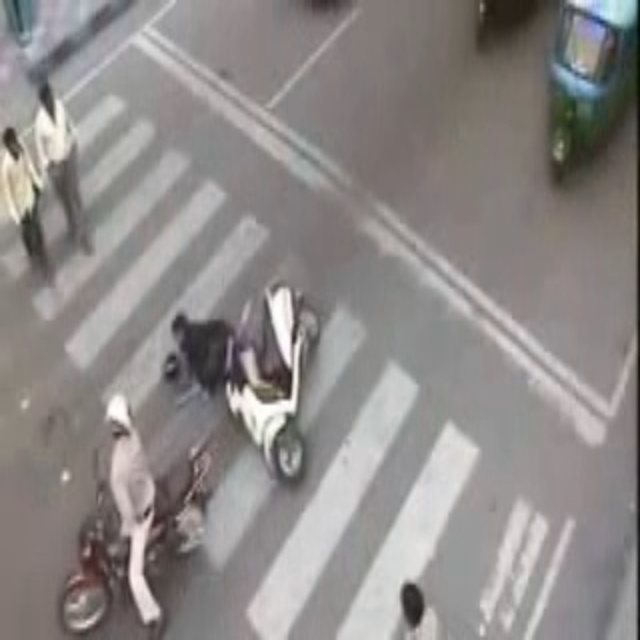acc: (51, 294, 312, 618)
